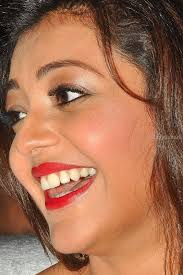indian_female: (1, 7, 161, 266)
